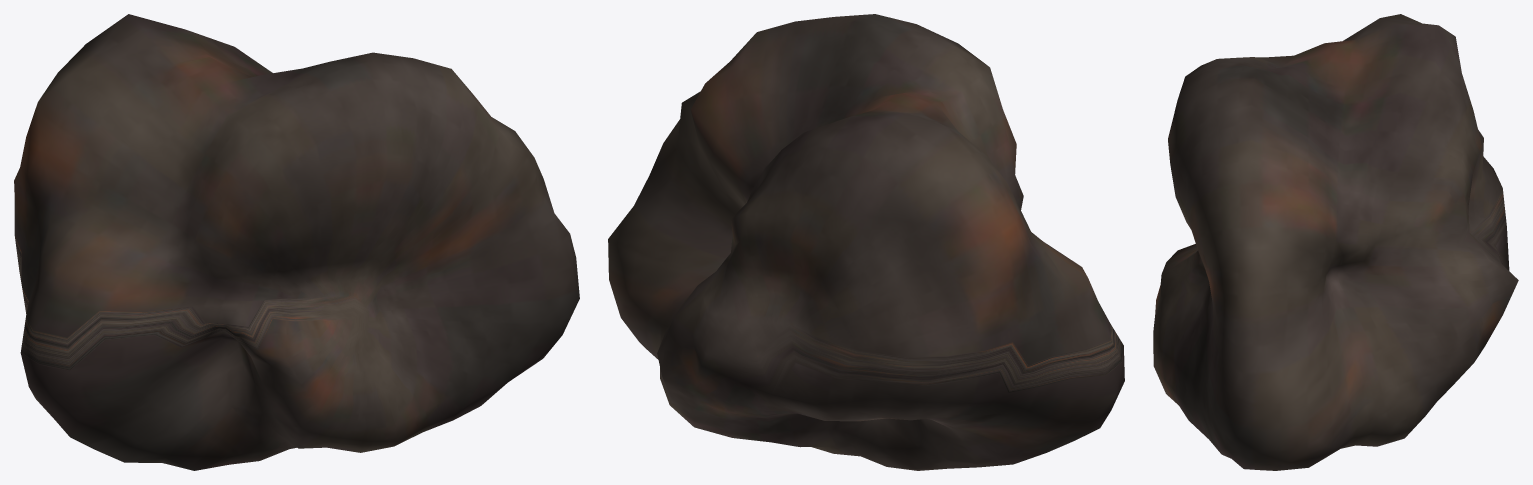
The model's file is asteroide_1.glb.
The picture shows the model from 3 angles, left to right: view 1: azimuth 30°, elevation 25°; view 2: azimuth 150°, elevation 25°; view 3: azimuth 270°, elevation 25°; orthographic projection. The views are drawn at different scales.
Parts seen in each view (by area): view 1: Asteroide_1; view 2: Asteroide_1; view 3: Asteroide_1.
Part boxes in pixels (box(x1,y1,x2,y2)): Asteroide_1: box(14, 14, 579, 470); Asteroide_1: box(608, 14, 1124, 470); Asteroide_1: box(1153, 14, 1518, 470).
Bounding box in the file's own units: 2.83 × 2.1 × 1.91.
Materials: 1 (1 with a texture image).
